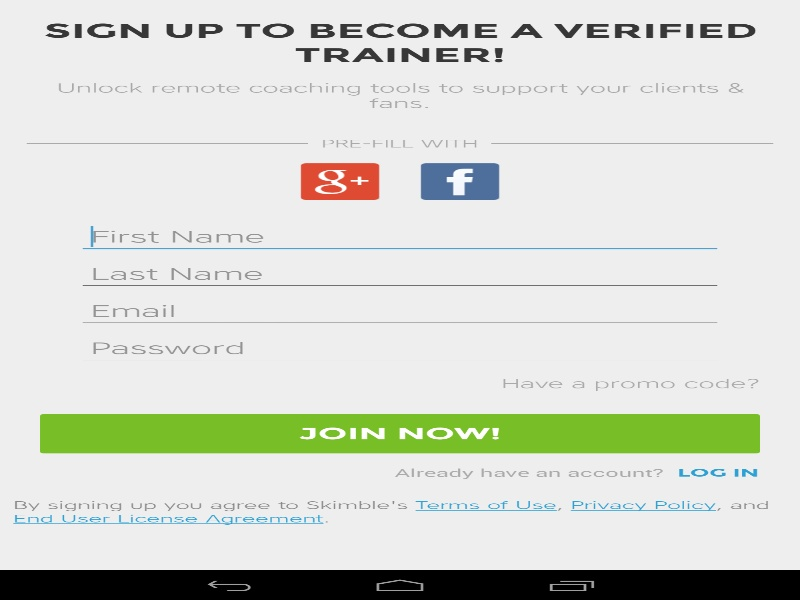Button: (40, 414, 760, 453)
Input: (77, 219, 722, 253), (77, 256, 722, 290), (77, 294, 722, 328), (77, 331, 722, 365)
